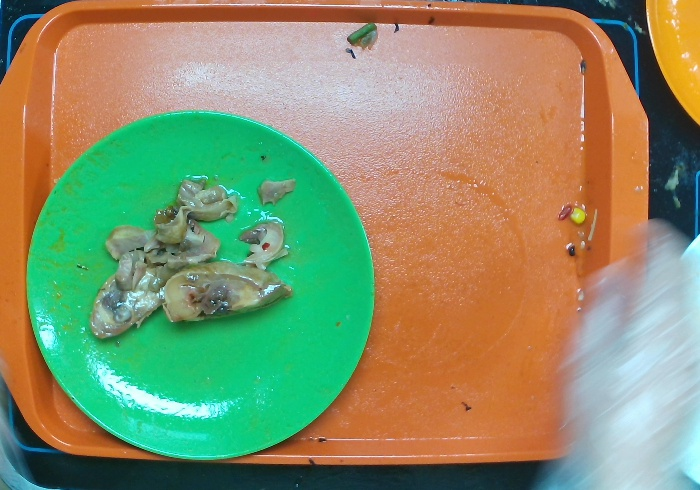HZYJPL-Lv_Se_Yuan_Pan: (20, 102, 380, 465)
